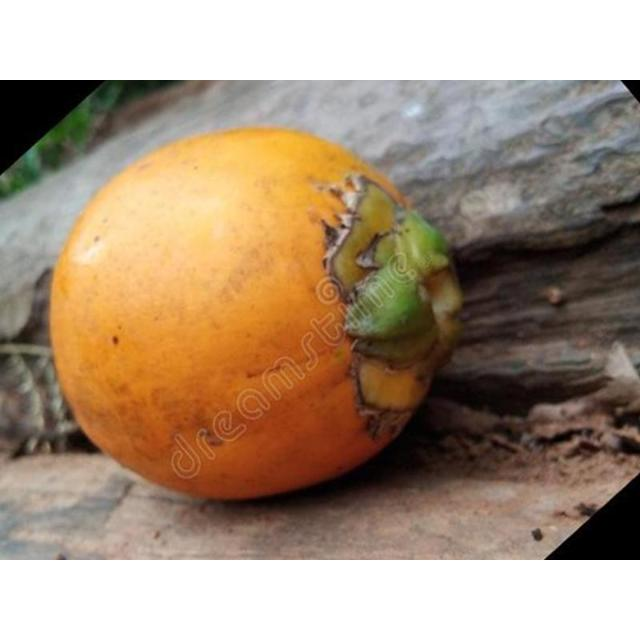good: (44, 126, 464, 506)
